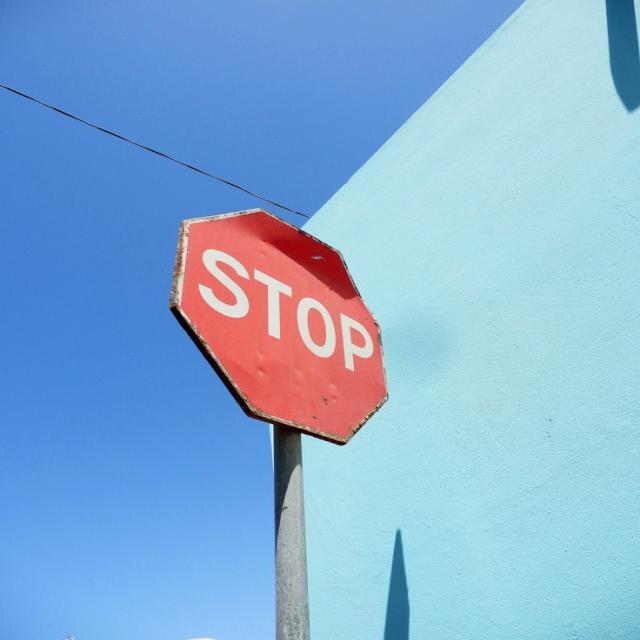stop: (168, 207, 389, 446)
